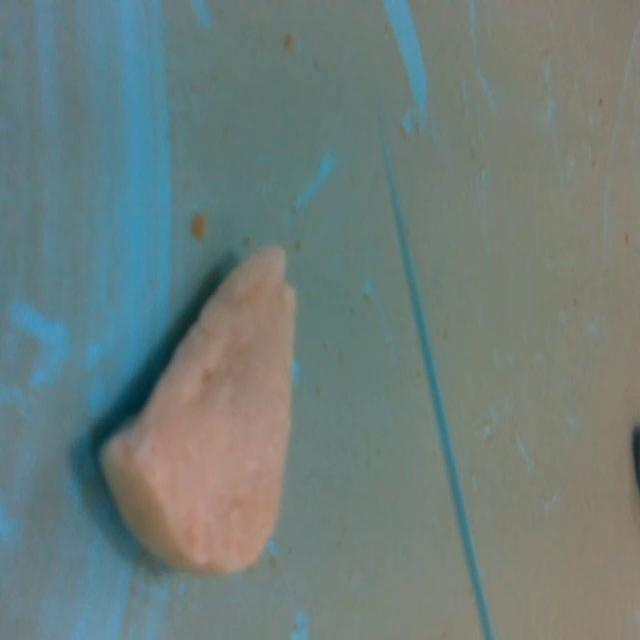rock: (88, 236, 307, 593)
